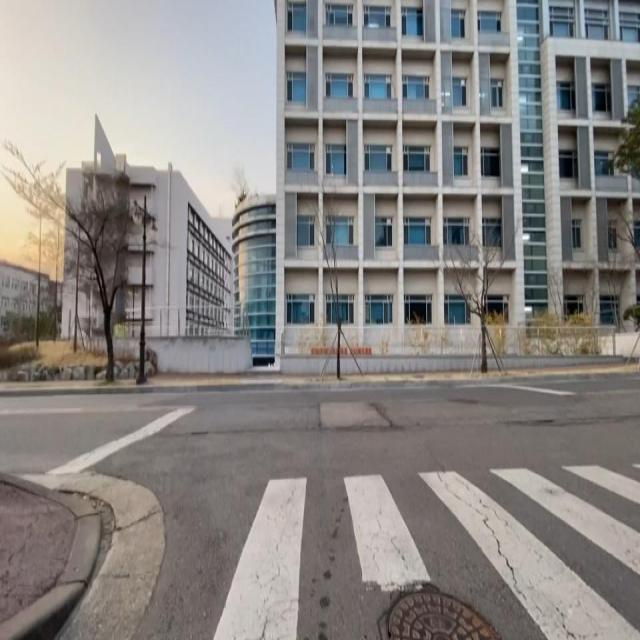sidewalk: (0, 364, 640, 390), (0, 473, 101, 625)
